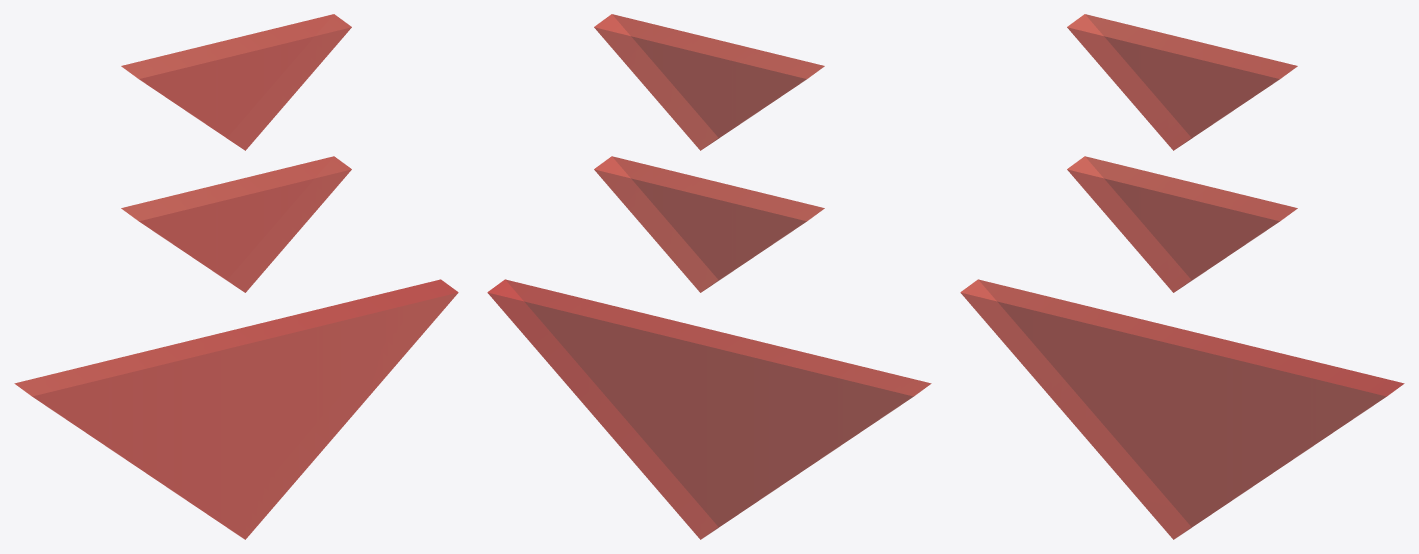
The model's file is SignDown.fbx.
The picture shows the model from 3 angles, left to right: view 1: azimuth 30°, elevation 25°; view 2: azimuth 150°, elevation 25°; view 3: azimuth 330°, elevation 25°; orthographic projection.
Parts seen in each view (by area): view 1: Cylinder; view 2: Cylinder; view 3: Cylinder.
Part boxes in pixels (box(x1,y1,x2,y2)): Cylinder: box(14, 14, 458, 539); Cylinder: box(487, 14, 931, 539); Cylinder: box(960, 14, 1404, 539).
Size of the model in its own units: 137 by 149 by 10.
